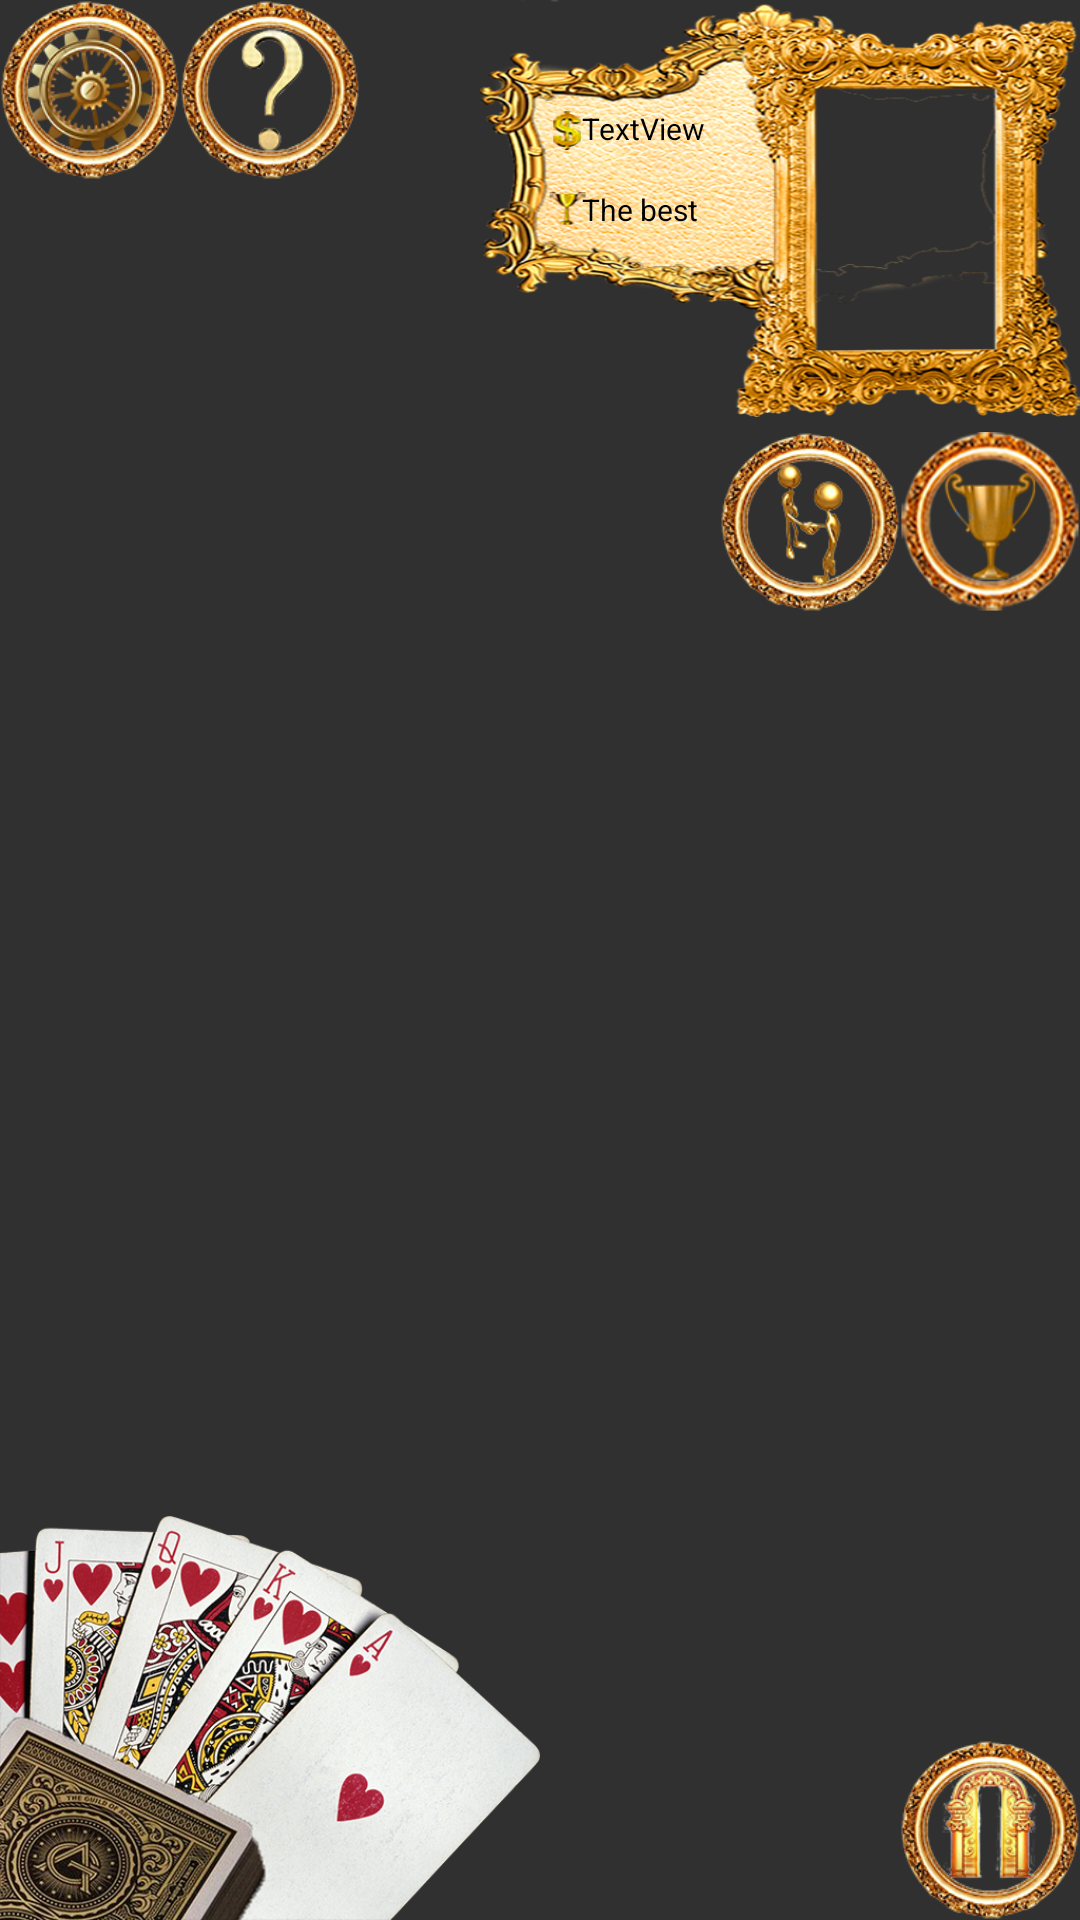

Where icons sit on this 1080 × 1920 app screen, as (x1, y1, x2, y2):
exit: (901, 1741, 1079, 1919)
friends: (721, 433, 899, 611)
help: (181, 1, 359, 179)
settings: (1, 1, 179, 179)
top: (901, 432, 1079, 611)
